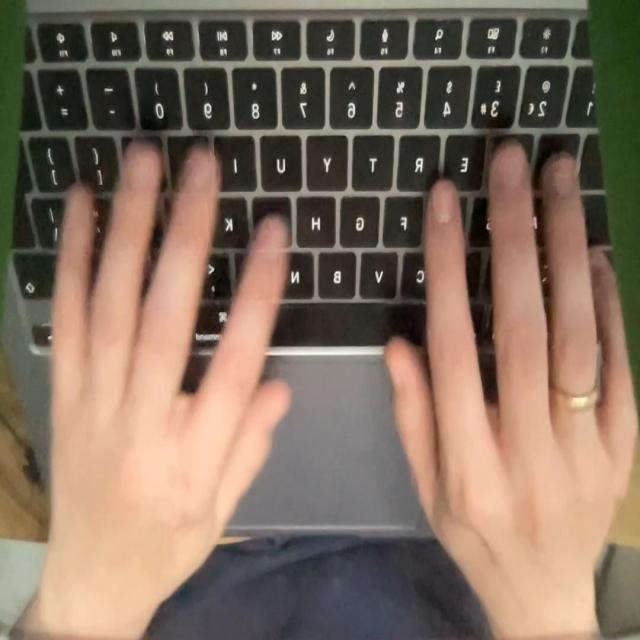keyboard-with-hands: (1, 0, 622, 542)
